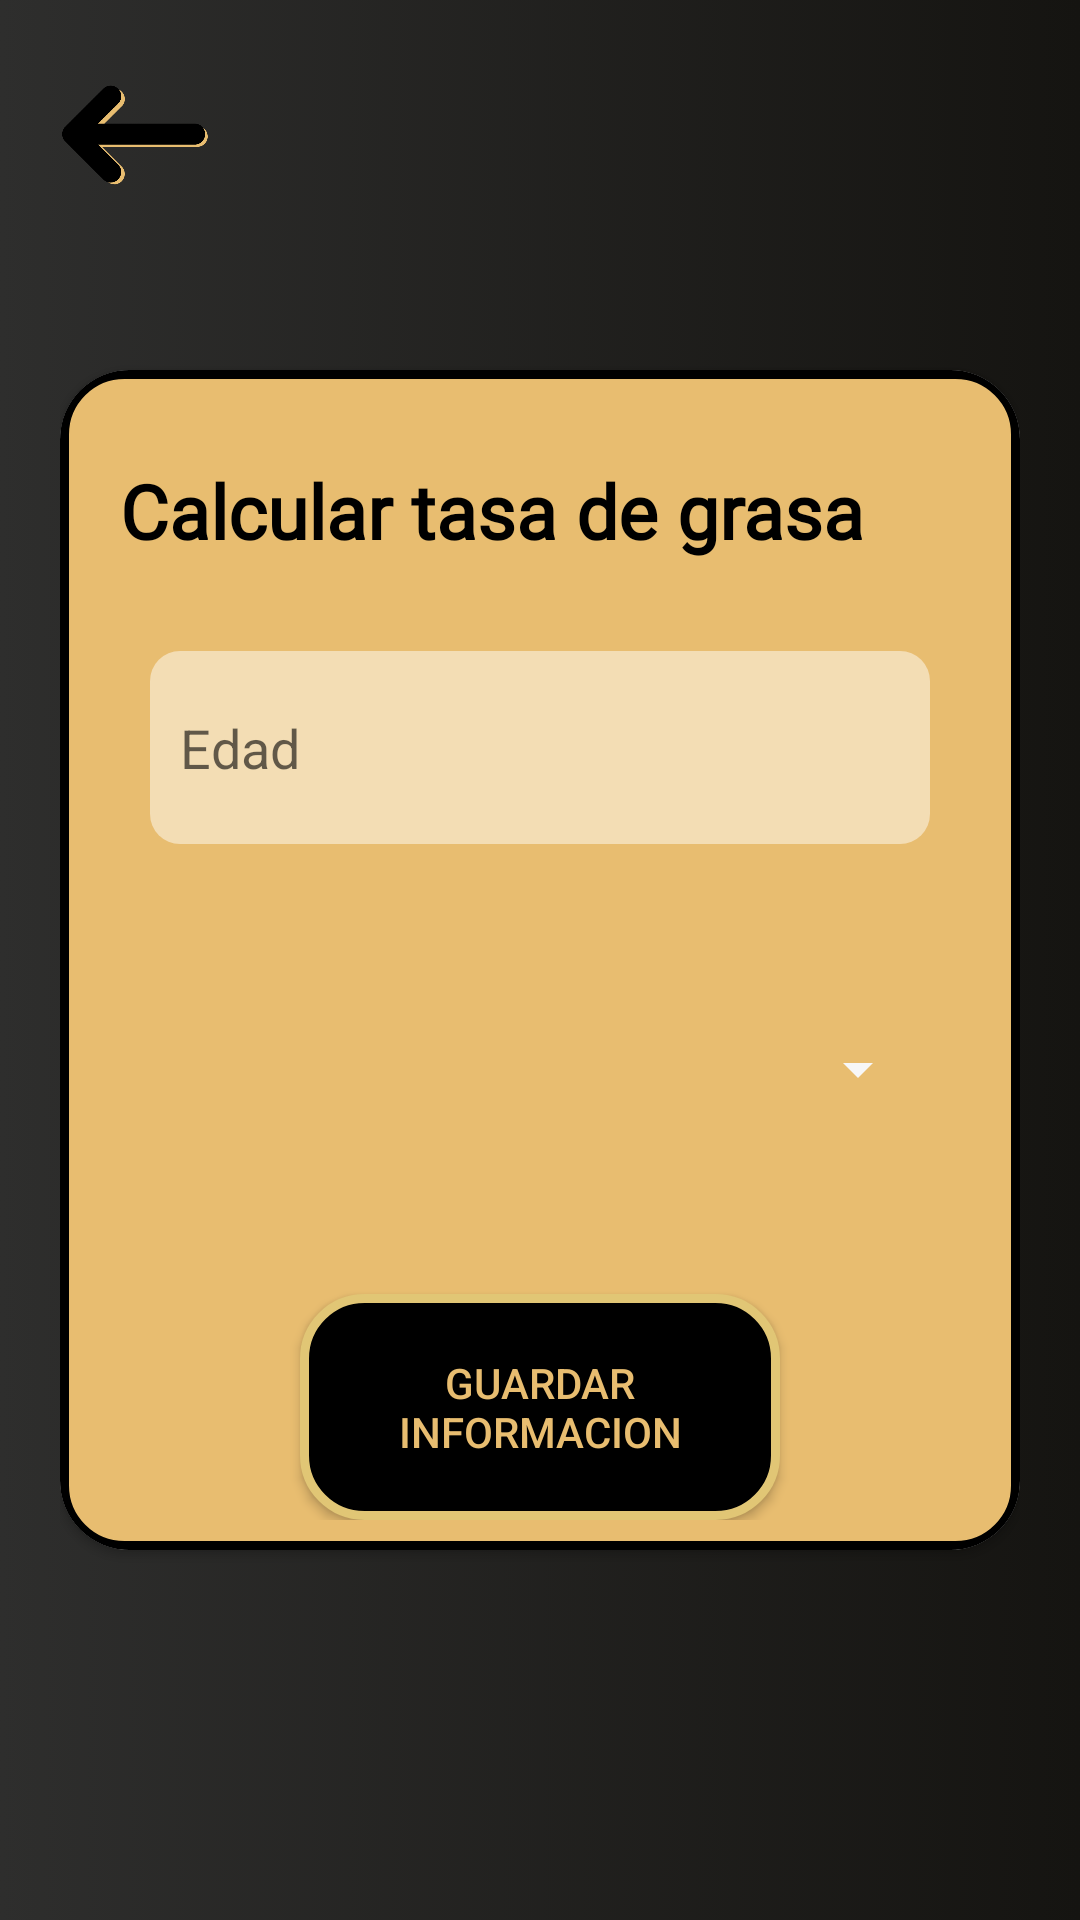

Point at icon controls on the screen. Image size 1080x1920, points as (x,y).
flechanegrodorado: (135,135)
